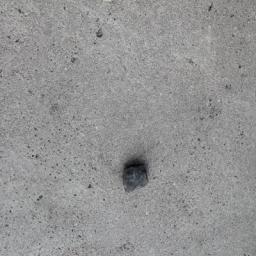FOD: (121, 163, 152, 196)
